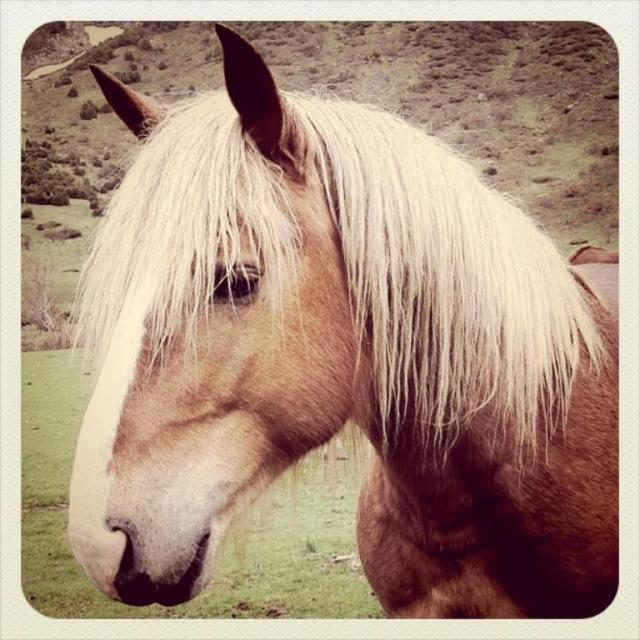Horse: (68, 22, 620, 619)
